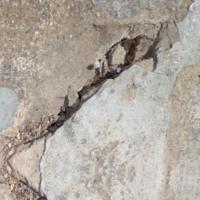crack: (6, 36, 166, 190)
